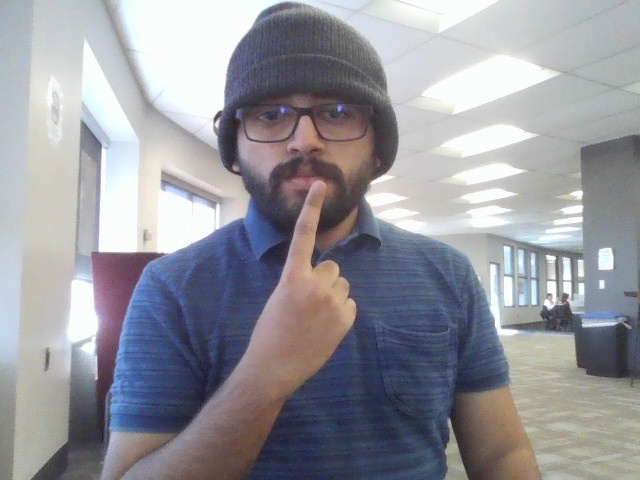one: (250, 174, 378, 399)
